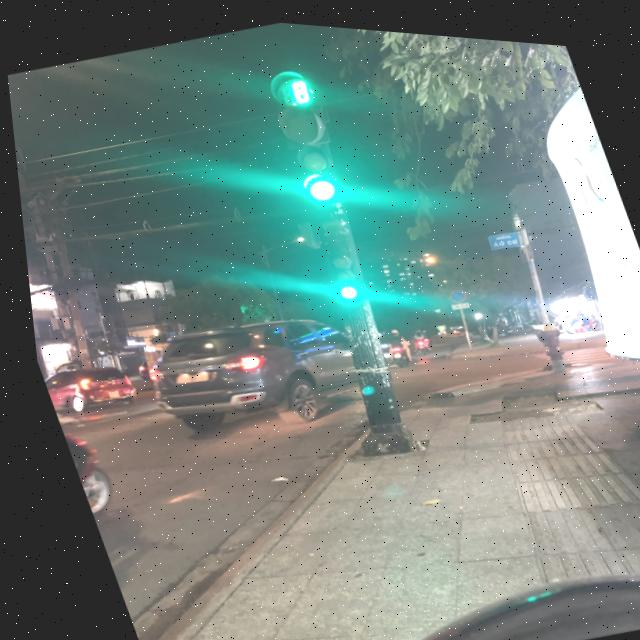Green: (269, 94, 349, 208), (312, 235, 362, 308)
